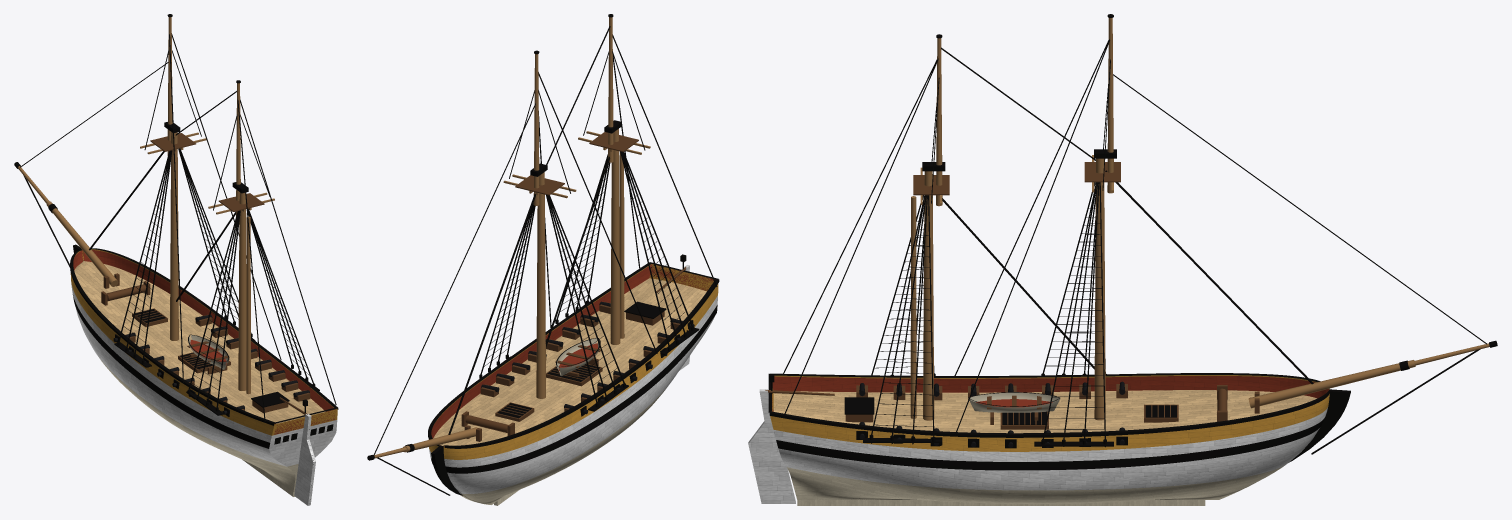
Rendered from snow.glb.
3 views of the same model, side by side, from view 1: azimuth 30°, elevation 25°; view 2: azimuth 150°, elevation 25°; view 3: azimuth 270°, elevation 25° (orthographic). The views are drawn at different scales.
Parts seen in each view (by area): view 1: hull; view 2: hull; view 3: hull.
Part boxes in pixels (x1,y1,x2,y2): hull: [14, 14, 338, 505]; hull: [367, 14, 719, 505]; hull: [748, 14, 1497, 505].
Bounding box in the file's own units: 7.51 × 25.39 × 35.22.
Materials: 9 (5 with a texture image).
